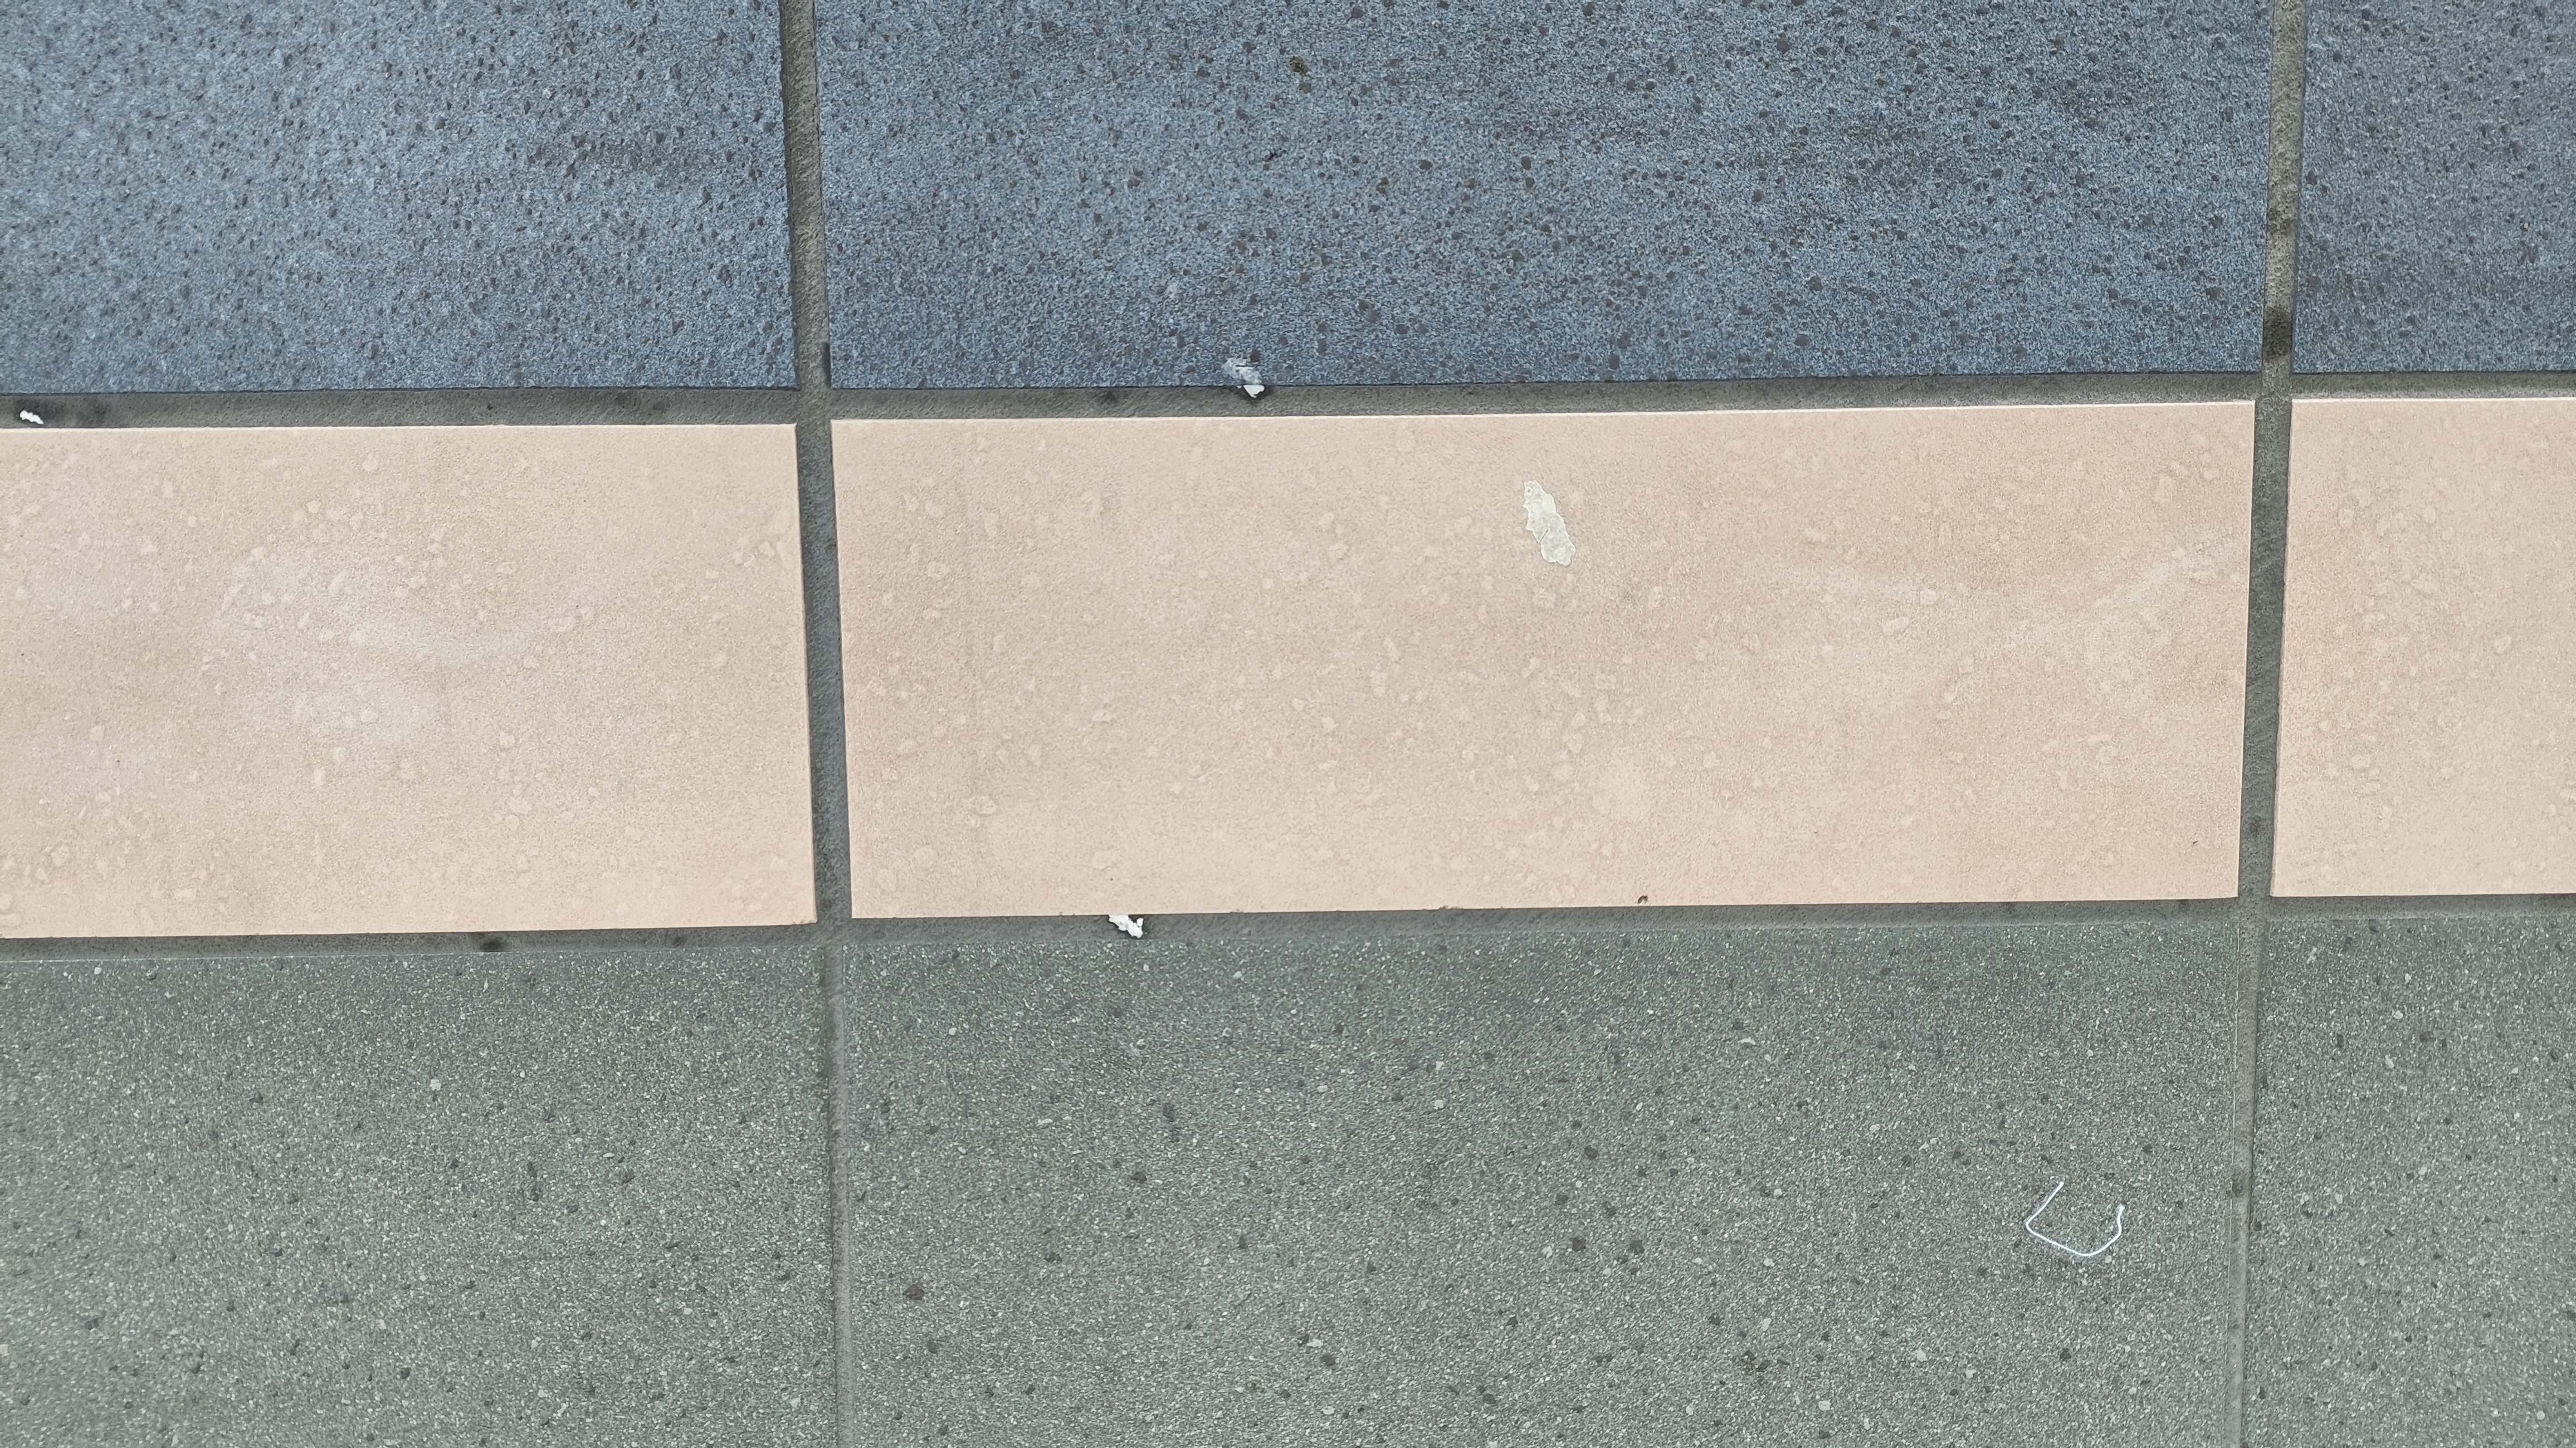Garbage: (2008, 1169, 2137, 1268), (1092, 914, 1168, 946)
Stain: (1511, 474, 1587, 578), (1205, 348, 1290, 408)
